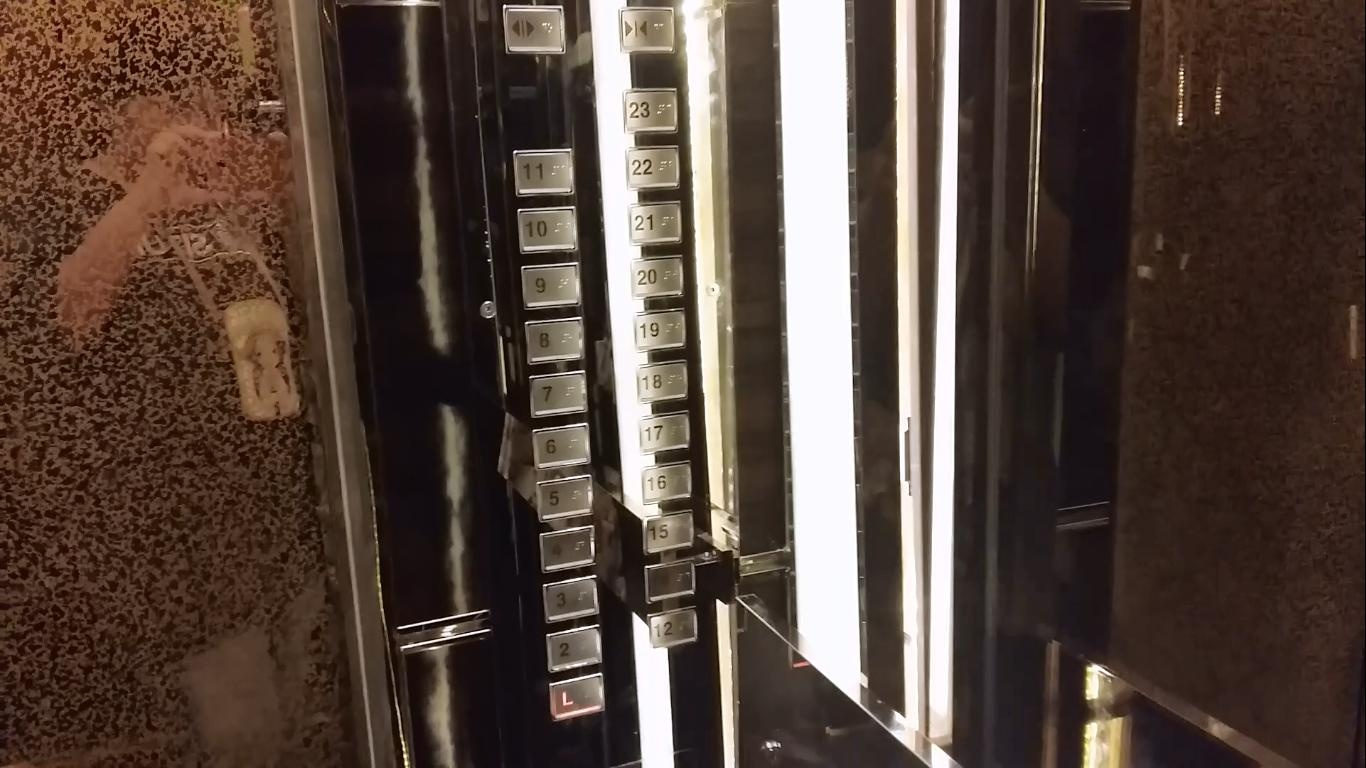10: (515, 205, 580, 255)
11: (512, 147, 575, 196)
12: (646, 604, 698, 648)
15: (642, 508, 694, 556)
16: (641, 458, 692, 505)
17: (636, 409, 691, 456)
18: (634, 359, 688, 404)
19: (632, 306, 688, 353)
2: (545, 622, 603, 673)
20: (629, 254, 685, 301)
21: (627, 200, 683, 244)
22: (624, 144, 681, 190)
23: (622, 88, 679, 134)
3: (541, 573, 600, 623)
4: (538, 524, 598, 575)
5: (535, 474, 594, 524)
6: (531, 422, 592, 470)
7: (527, 369, 589, 419)
8: (523, 315, 586, 365)
9: (519, 261, 582, 311)
L: (548, 672, 606, 723)
blur: (643, 557, 697, 605)
close: (617, 6, 676, 55)
open: (501, 4, 568, 56)
